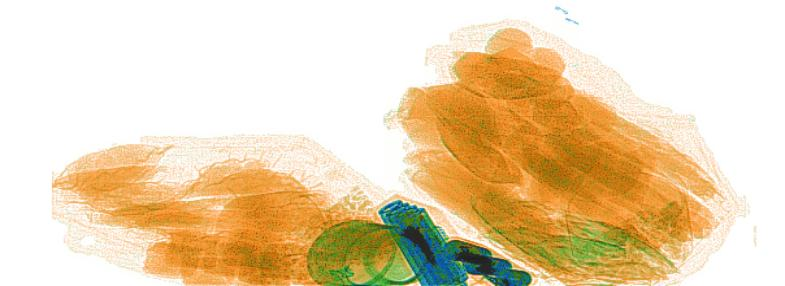battery: (377, 198, 470, 283), (439, 235, 538, 283)
